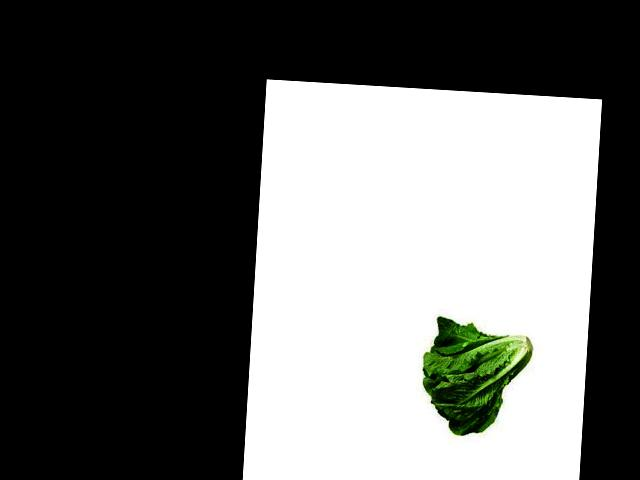lettuce: (421, 320, 529, 428)
